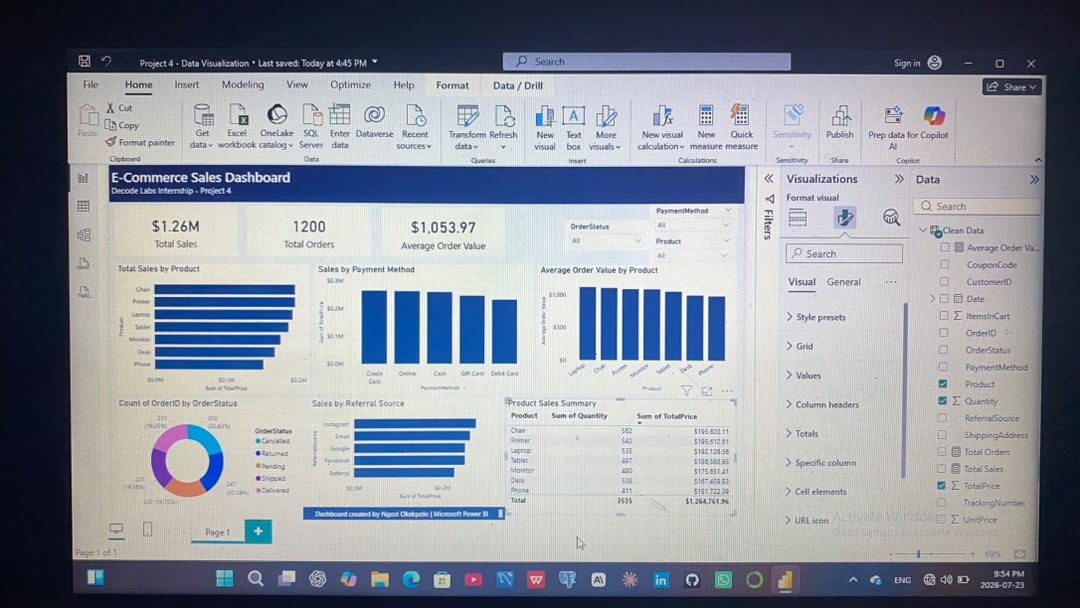

The page's visual inventory and layout, read from the dashboard file:
{"tool":"powerbi","page":{"name":"Page 1","canvas":[1280,720],"ordinal":0},"visuals":[{"type":"card","fields":{"Values":["Clean Data.Total Sales"]},"box":[11.5,85,247.7,100.8],"z":0},{"type":"card","fields":{"Values":["Clean Data.Total Orders"]},"box":[279.4,85,247.7,100.8],"z":1000},{"type":"card","fields":{"Values":["Clean Data.Average Order Value"]},"box":[548.6,86.4,247.7,99.4],"z":2000},{"type":"clusteredBarChart","title":"Total Sales by Product","fields":{"Category":["Clean Data.Product"],"Y":["Sum(Clean Data.TotalPrice)"]},"box":[11.5,201.6,391.7,262.1],"z":3000},{"type":"clusteredColumnChart","title":"Sales by Payment Method","fields":{"Category":["Clean Data.PaymentMethod"],"Y":["Sum(Clean Data.TotalPrice)"]},"box":[416.2,201.6,439.2,262.1],"z":4000},{"type":"slicer","title":"Order by Status","fields":{"Values":["Clean Data.Product"]},"box":[758.9,17.3,213.1,60.5],"z":5000},{"type":"clusteredColumnChart","fields":{"Category":["Clean Data.Product"],"Y":["Clean Data.Average Order Value"]},"box":[865.4,201.6,401.8,262.1],"z":7000},{"type":"tableEx","title":"Product Sales Summary","fields":{"Values":["Clean Data.Product","Sum(Clean Data.Quantity)","Sum(Clean Data.TotalPrice)"]},"box":[799.2,473.8,468,236.2],"z":8000},{"type":"textbox","box":[0,2.9,1280.2,74.9],"z":9000},{"type":"donutChart","fields":{"Category":["Clean Data.OrderStatus"],"Y":["CountNonNull(Clean Data.OrderID)"]},"box":[11.5,473.8,378.7,236.2],"z":9001},{"type":"slicer","fields":{"Values":["Clean Data.PaymentMethod"]},"box":[1091.5,77.8,175.7,61.9],"z":9002},{"type":"slicer","fields":{"Values":["Clean Data.OrderStatus"]},"box":[918.7,109.4,172.8,61.9],"z":9003},{"type":"slicer","fields":{"Values":["Clean Data.Product"]},"box":[1091.5,139.7,172.8,61.9],"z":9004},{"type":"clusteredBarChart","title":"Sales by Referral Source","fields":{"Category":["Clean Data.ReferralSource"],"Y":["Sum(Clean Data.TotalPrice)"]},"box":[403.2,473.8,380.2,208.8],"z":9005},{"type":"textbox","box":[390.2,694.1,409,25.9],"z":9006}]}

Visuals, with their boxes on the page's 1280x720 design canvas (x1, y1, x2, y2). These are canvas units, not pixel positions in the 1080x608 screenshot, which may show the page scaled, cropped or inside an application window:
card - Clean Data.Total Sales: locate(12, 85, 259, 186)
card - Clean Data.Total Orders: locate(279, 85, 527, 186)
card - Clean Data.Average Order Value: locate(549, 86, 796, 186)
"Total Sales by Product" clusteredBarChart: locate(12, 202, 403, 464)
"Sales by Payment Method" clusteredColumnChart: locate(416, 202, 855, 464)
"Order by Status" slicer: locate(759, 17, 972, 78)
clusteredColumnChart - Clean Data.Product x Clean Data.Average Order Value: locate(865, 202, 1267, 464)
"Product Sales Summary" tableEx: locate(799, 474, 1267, 710)
textbox: locate(0, 3, 1280, 78)
donutChart - Clean Data.OrderStatus x CountNonNull(Clean Data.OrderID): locate(12, 474, 390, 710)
slicer - Clean Data.PaymentMethod: locate(1092, 78, 1267, 140)
slicer - Clean Data.OrderStatus: locate(919, 109, 1092, 171)
slicer - Clean Data.Product: locate(1092, 140, 1264, 202)
"Sales by Referral Source" clusteredBarChart: locate(403, 474, 783, 683)
textbox: locate(390, 694, 799, 720)
